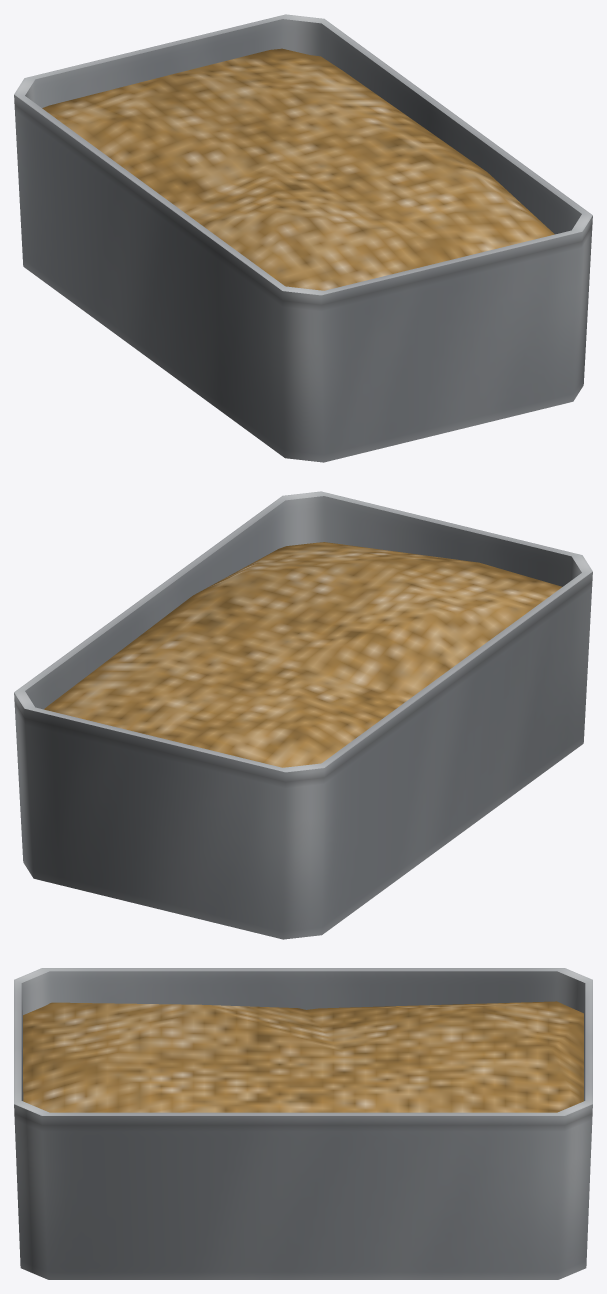
Rendered from jsf_Ingredient_Tenkasu.fbx.
The picture shows the model from 3 angles, top to bottom: view 1: azimuth 30°, elevation 25°; view 2: azimuth 150°, elevation 25°; view 3: azimuth 270°, elevation 25°; orthographic projection. The views are drawn at different scales.
Visible parts, largest first — view 1: jsf_Ingredient_Tenkasu; view 2: jsf_Ingredient_Tenkasu; view 3: jsf_Ingredient_Tenkasu.
Part boxes in pixels (x1=…): jsf_Ingredient_Tenkasu: x1=14, y1=14, x2=592, y2=462; jsf_Ingredient_Tenkasu: x1=14, y1=491, x2=592, y2=939; jsf_Ingredient_Tenkasu: x1=14, y1=968, x2=592, y2=1279.
Bounding box in the file's own units: 15.76 × 8.29 × 26.1.
